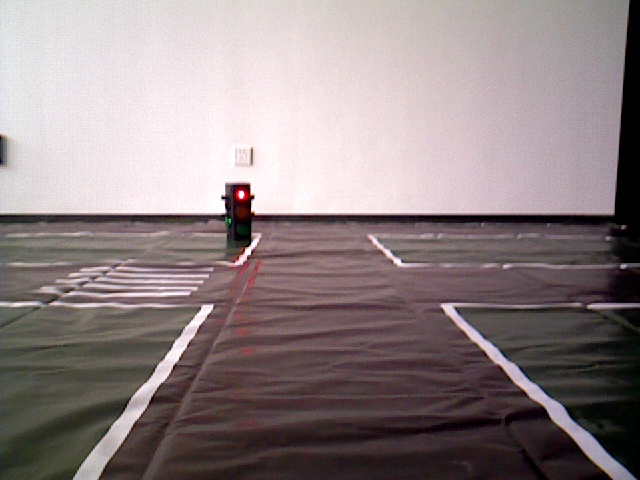red: (224, 186, 250, 243)
